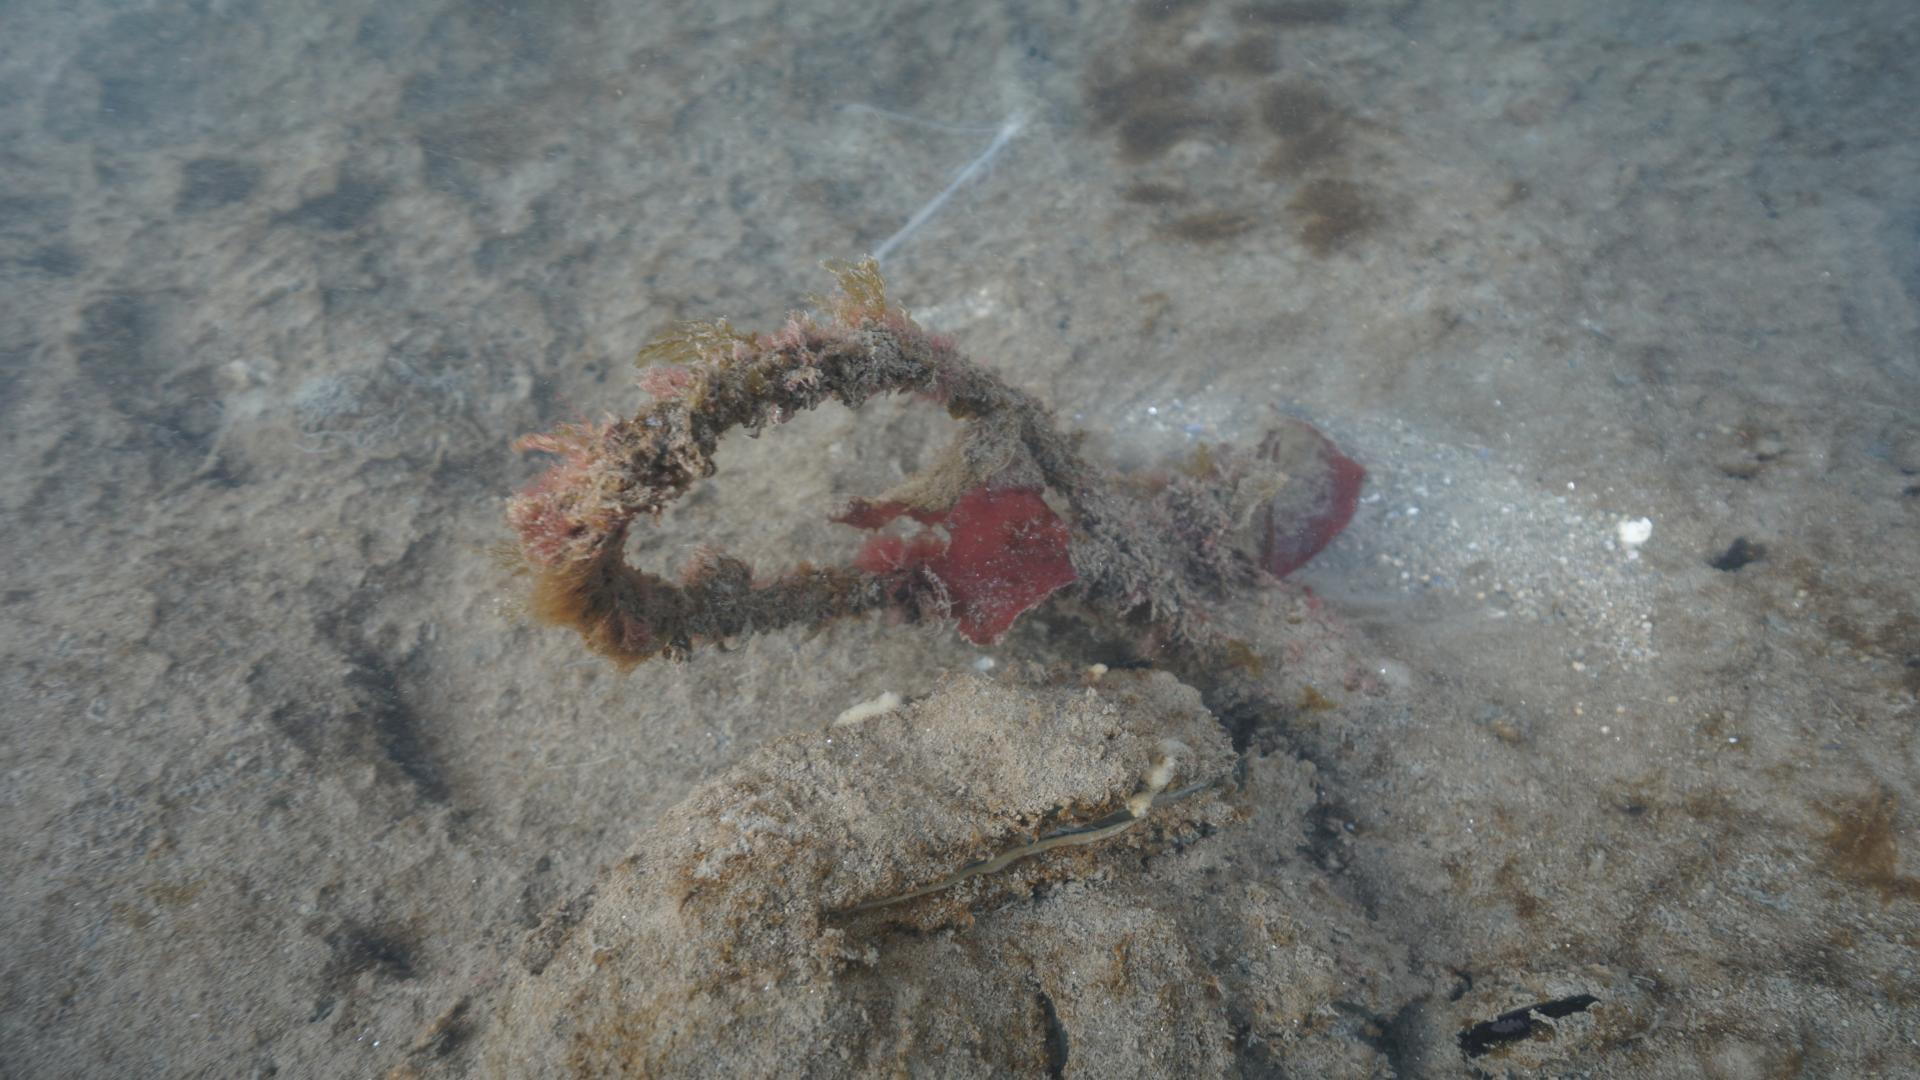rope: (516, 314, 1371, 938)
